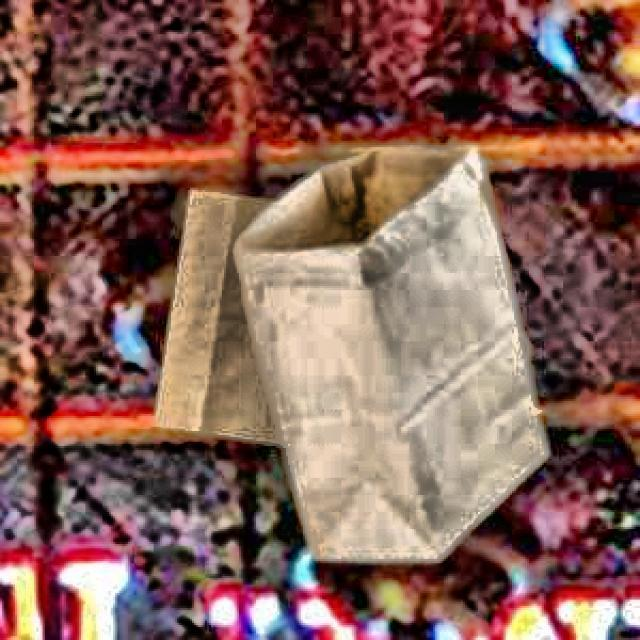Paper-bag: (219, 142, 575, 577)
